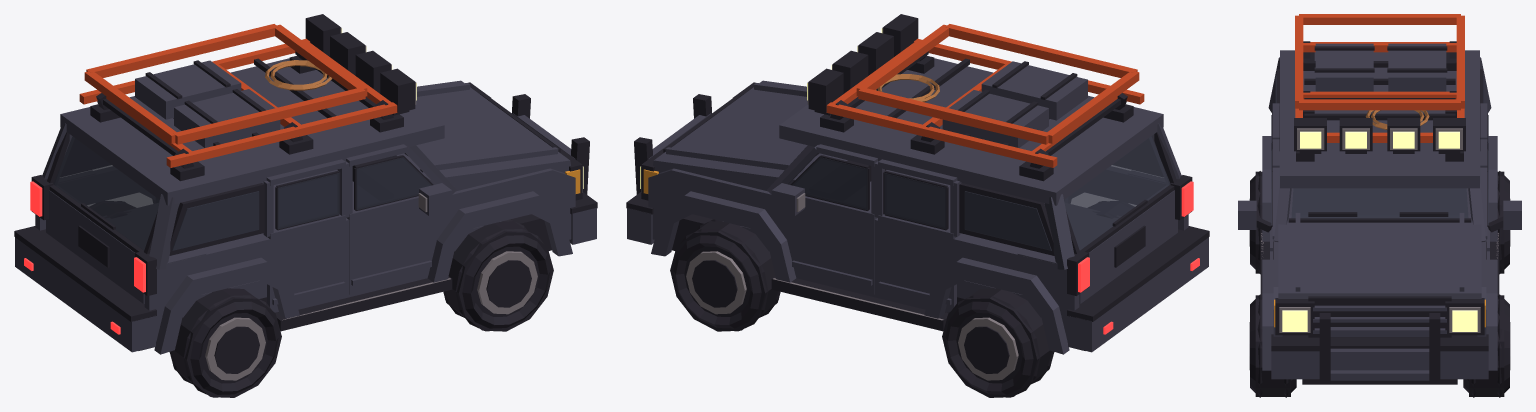
The picture shows the model from 3 angles, left to right: view 1: azimuth 30°, elevation 25°; view 2: azimuth 150°, elevation 25°; view 3: azimuth 270°, elevation 25°; orthographic projection. The views are drawn at different scales.
Parts seen in each view (by area): view 1: body_paint, body_rubber, body_rack, doorL_paint, wheelRL_rubber, wheelFL_rubber, doorRearL_paint, doorHatch_glass, doorHatch_paint, body_glass, doorRearL_glass, doorL_glass (+8 smaller); view 2: body_paint, body_rubber, body_rack, doorR_paint, wheelRR_rubber, wheelFR_rubber, doorRearR_paint, doorHatch_glass, doorHatch_paint, body_glass, doorRearR_glass, doorR_glass (+8 smaller); view 3: body_paint, body_rubber, body_rack, body_glass, wheelFL_rubber, wheelFR_rubber, body_metal, wheelRL_rubber, wheelRR_rubber, doorL_paint, doorR_paint, lampHeadL_head (+8 smaller).
Part boxes in pixels (left/top/right/bottom): body_paint: left=15, top=58, right=596, bottom=354; body_rubber: left=14, top=14, right=597, bottom=350; body_rack: left=79, top=24, right=397, bottom=167; doorL_paint: left=346, top=144, right=445, bottom=294; wheelRL_rubber: left=169, top=288, right=281, bottom=397; wheelFL_rubber: left=443, top=219, right=553, bottom=331; doorRearL_paint: left=263, top=159, right=348, bottom=312; doorHatch_glass: left=53, top=136, right=159, bottom=250; doorHatch_paint: left=46, top=186, right=144, bottom=303; body_glass: left=172, top=191, right=259, bottom=250; doorRearL_glass: left=277, top=173, right=339, bottom=229; doorL_glass: left=356, top=157, right=431, bottom=209; body_paint: left=627, top=58, right=1208, bottom=354; body_rubber: left=626, top=14, right=1209, bottom=350; body_rack: left=826, top=24, right=1144, bottom=167; doorR_paint: left=778, top=144, right=878, bottom=294; wheelRR_rubber: left=942, top=288, right=1054, bottom=397; wheelFR_rubber: left=670, top=219, right=780, bottom=331; doorRearR_paint: left=875, top=159, right=960, bottom=312; doorHatch_glass: left=1064, top=136, right=1170, bottom=250; doorHatch_paint: left=1079, top=186, right=1177, bottom=303; body_glass: left=964, top=191, right=1051, bottom=250; doorRearR_glass: left=884, top=173, right=946, bottom=229; doorR_glass: left=792, top=157, right=867, bottom=209; body_paint: left=1238, top=43, right=1521, bottom=380; body_rubber: left=1256, top=41, right=1503, bottom=384; body_rack: left=1295, top=14, right=1464, bottom=142; body_glass: left=1275, top=75, right=1484, bottom=218; wheelFL_rubber: left=1249, top=294, right=1296, bottom=397; wheelFR_rubber: left=1463, top=294, right=1510, bottom=397; body_metal: left=1261, top=128, right=1498, bottom=332; wheelRL_rubber: left=1249, top=171, right=1262, bottom=274; wheelRR_rubber: left=1497, top=171, right=1510, bottom=274; doorL_paint: left=1270, top=139, right=1279, bottom=259; doorR_paint: left=1480, top=139, right=1489, bottom=259; lampHeadL_head: left=1282, top=310, right=1307, bottom=331.
Bounding box in the file's own units: 5.04 × 2.53 × 2.74.
